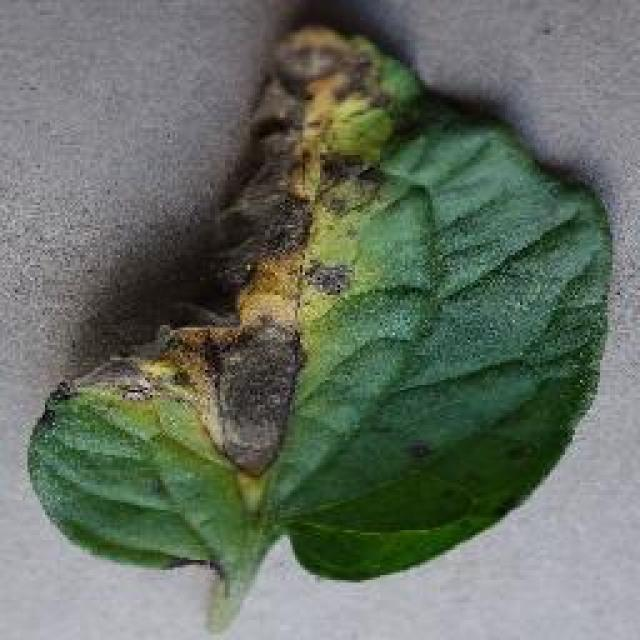Tomato Early blight leaf: (31, 19, 614, 584)
